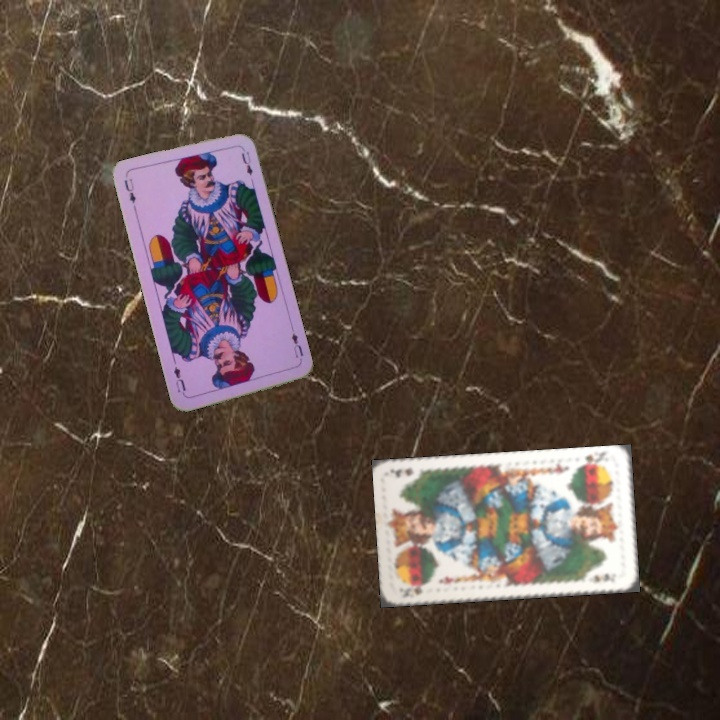EU: (288, 325, 306, 366), (120, 174, 138, 206)
SK: (576, 449, 608, 470), (402, 581, 430, 600)
